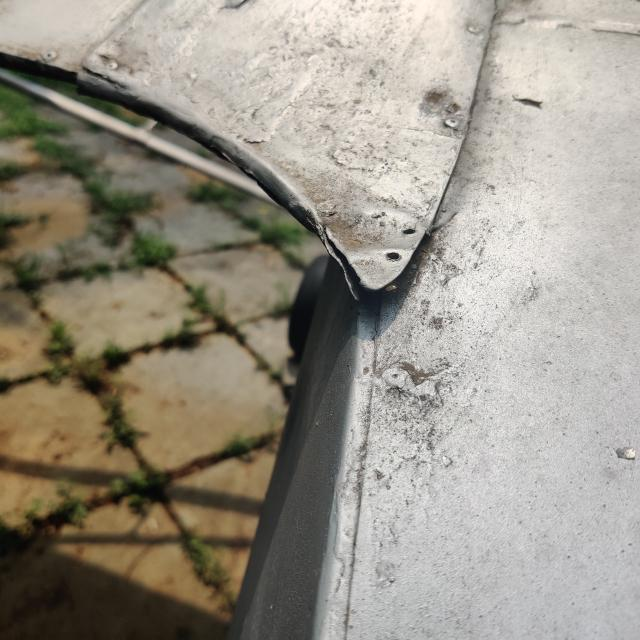crack: (294, 196, 388, 316)
